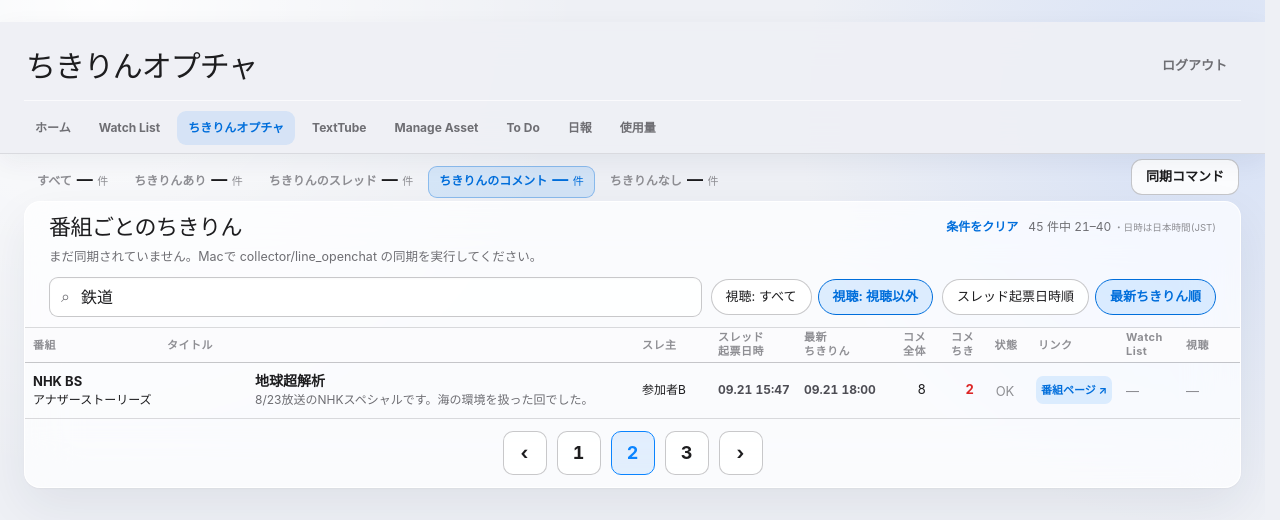
Scenario: 条件をクリア appears only while filtered (search, kind or watch; not sort), and resets them to the default view
Click the button "条件をクリア" at (982,227), box top-left (946, 218), bottom-right (1018, 236)
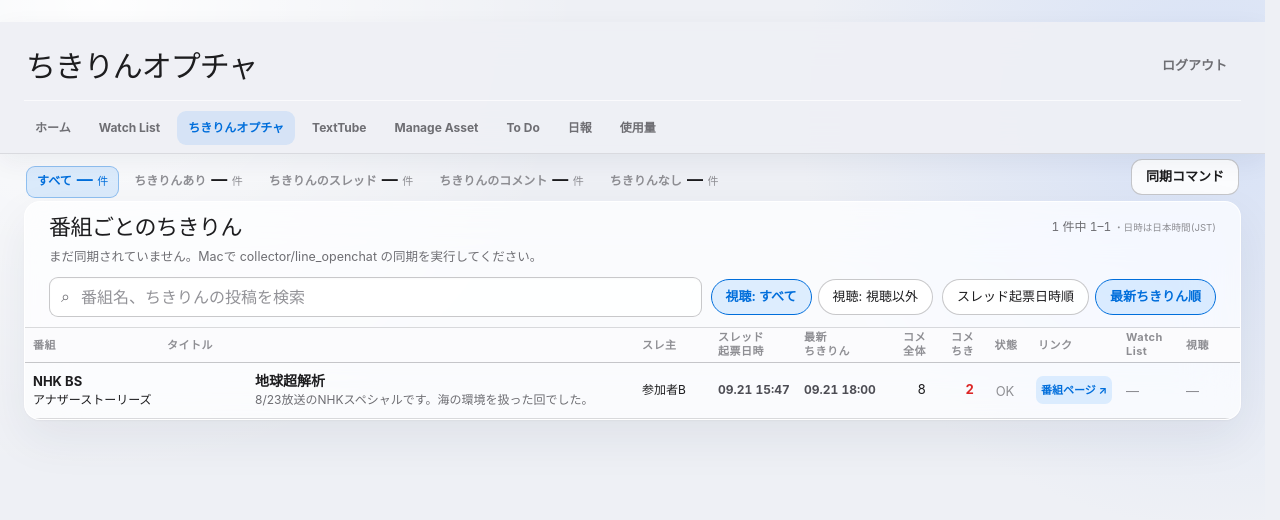
Check: the button "すべて — 件" is shown, box top-left (26, 166), bottom-right (119, 198)
Check: the field named "検索" is empty, box top-left (49, 277), bottom-right (702, 317)
Check: the button "条件をクリア" is gone
